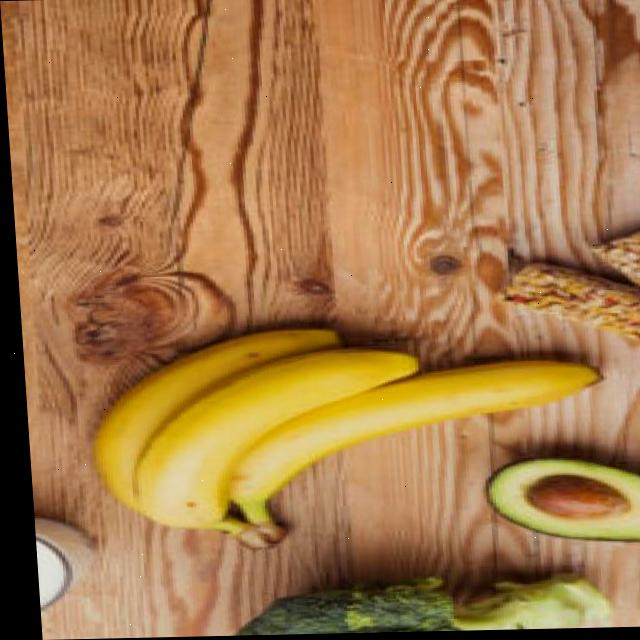banana: (79, 317, 626, 554)
